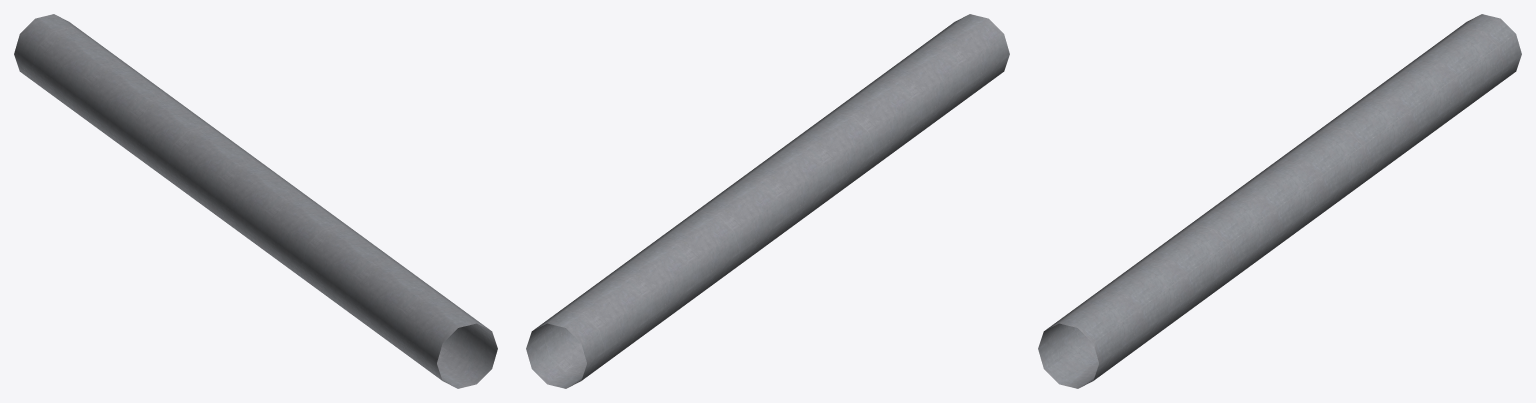
File: p_large_no_cap.FBX
3 renders of one model, left to right at view 1: azimuth 30°, elevation 25°; view 2: azimuth 150°, elevation 25°; view 3: azimuth 330°, elevation 25°, orthographic.
Parts seen in each view (by area): view 1: Cylinder013; view 2: Cylinder013; view 3: Cylinder013.
Part boxes in pixels (box(x1,y1,x2,y2)): Cylinder013: box(14, 14, 497, 388); Cylinder013: box(526, 14, 1009, 388); Cylinder013: box(1038, 14, 1521, 388).
Bounding box in the file's own units: 21.4 × 20.35 × 256.
1 material, 1 textured.
